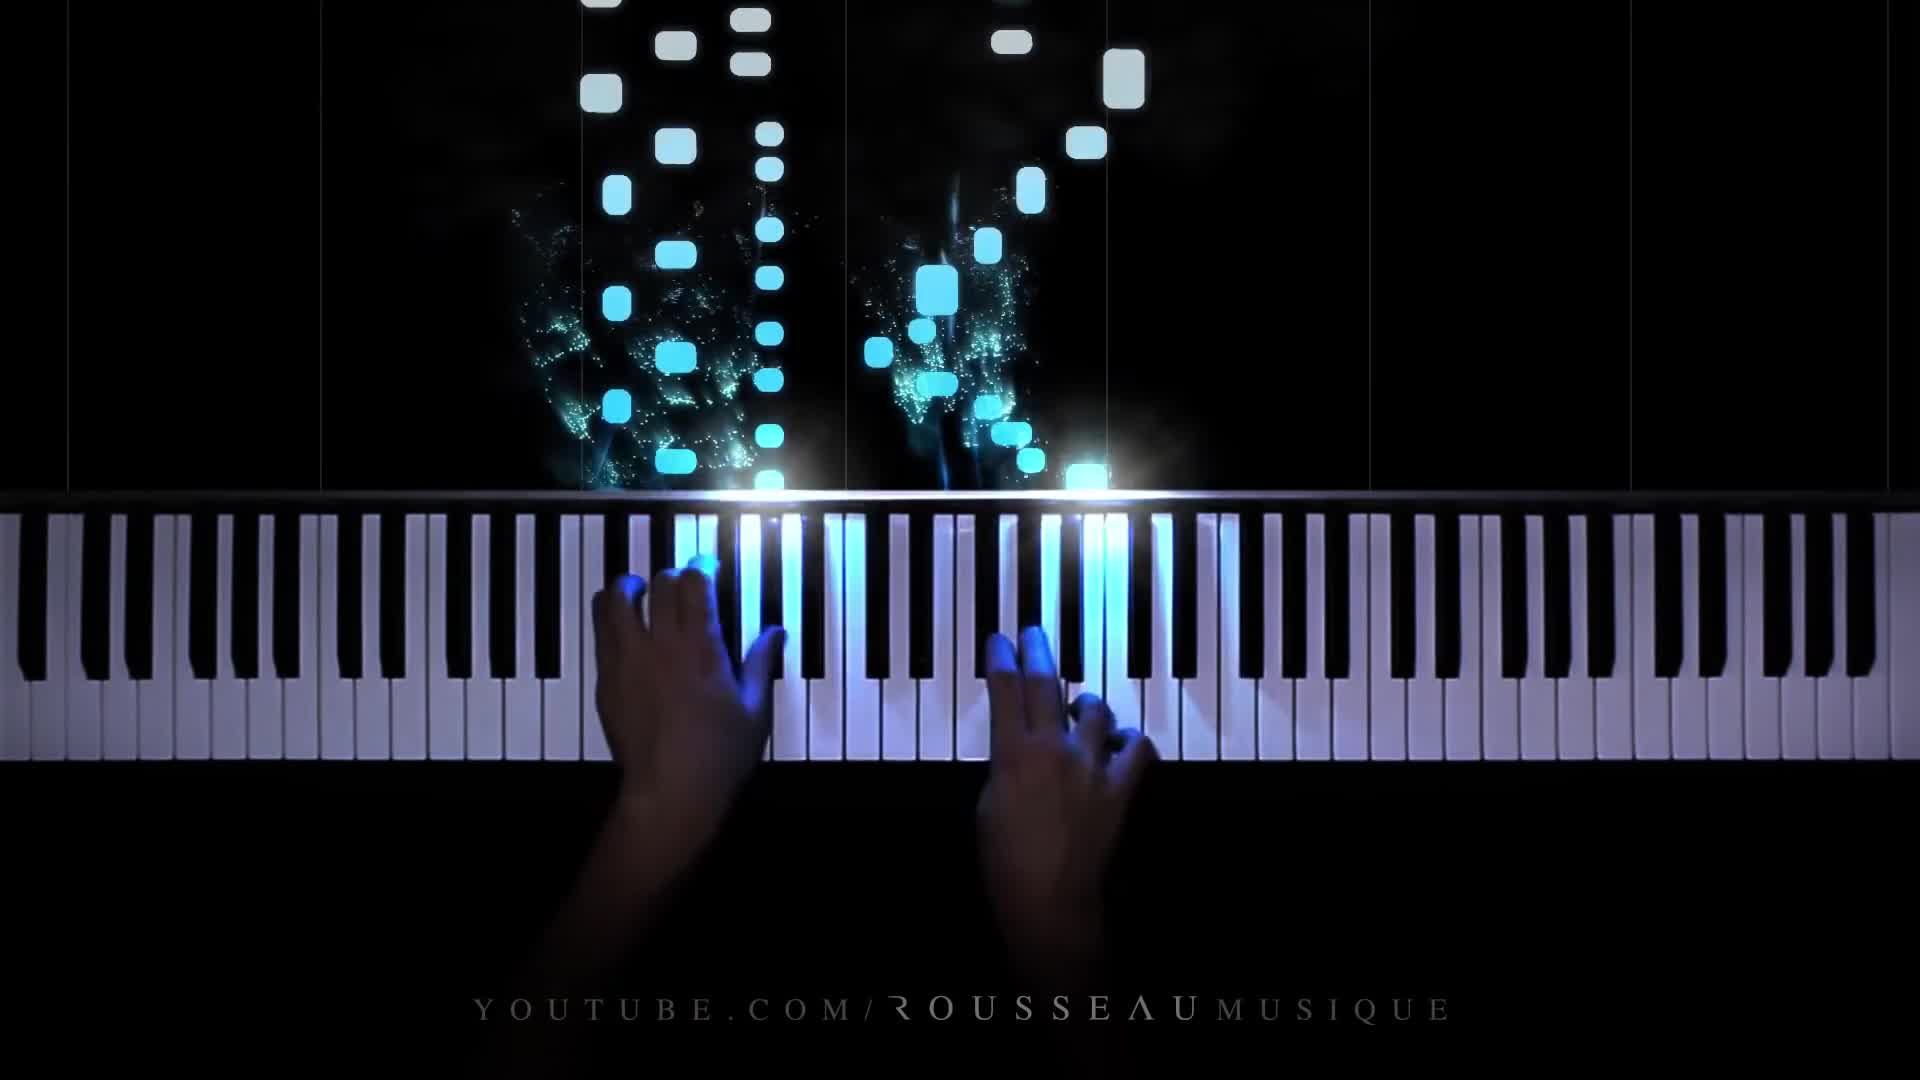left: (593, 553, 789, 771)
right: (967, 621, 1154, 889)
